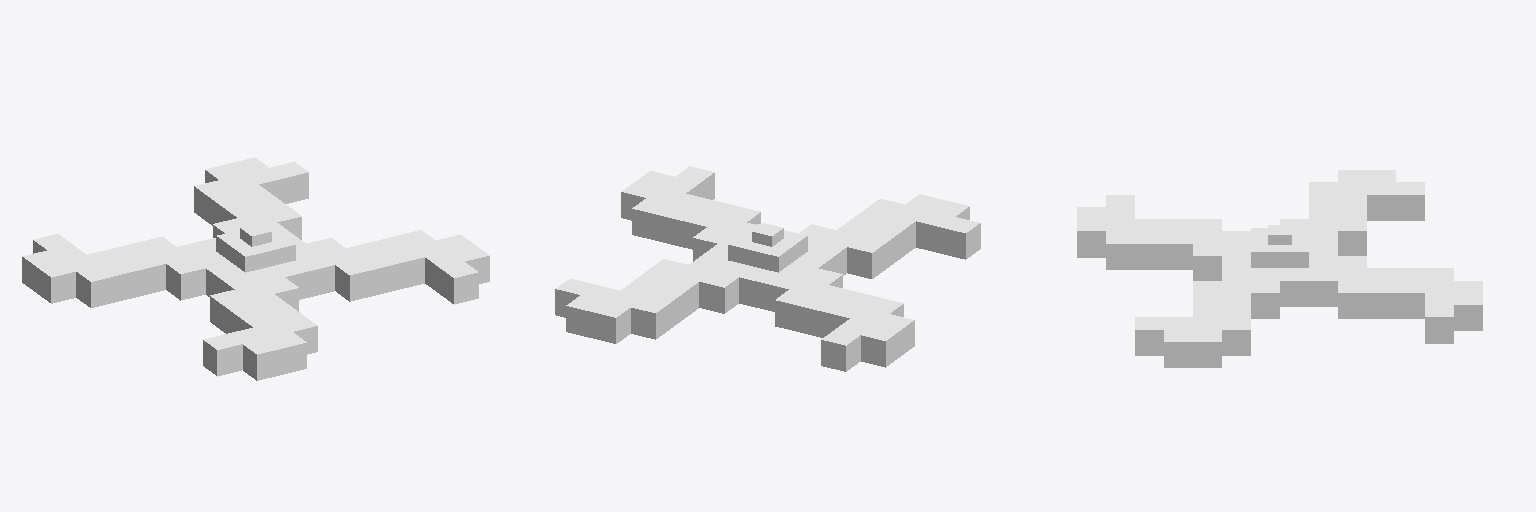
Rendered from helicopter_wing.obj.
3 renders of one model, left to right at view 1: azimuth 30°, elevation 25°; view 2: azimuth 150°, elevation 25°; view 3: azimuth 270°, elevation 25°, orthographic.
Visible parts, largest first — view 1: object 1; view 2: object 1; view 3: object 1.
Part boxes in pixels (x1,y1,x2,y2): object 1: (22,157,489,380); object 1: (555,166,980,371); object 1: (1077,170,1482,367).
Bounding box in the file's own units: 7 × 1 × 7.